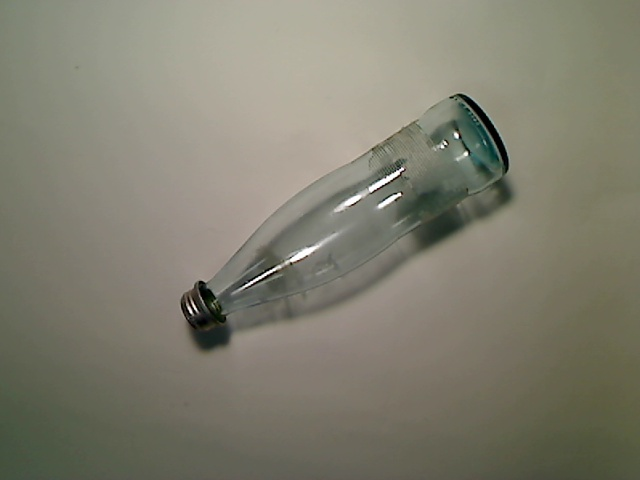bottle: (179, 93, 510, 334)
